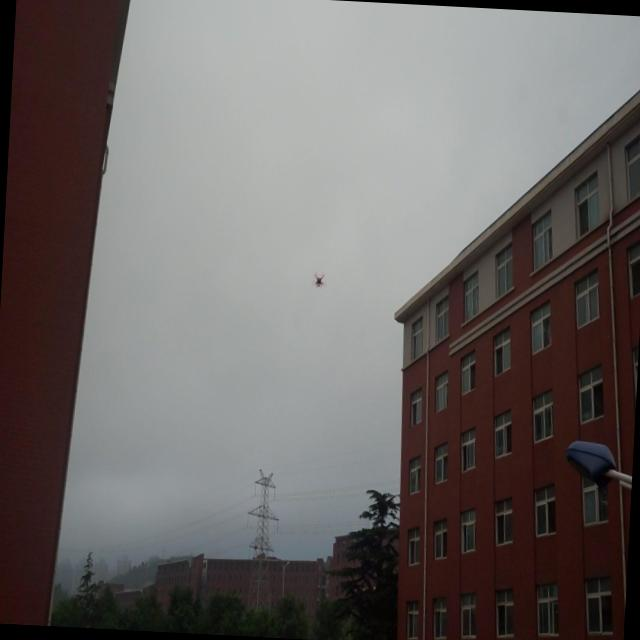drone: (311, 268, 327, 292)
